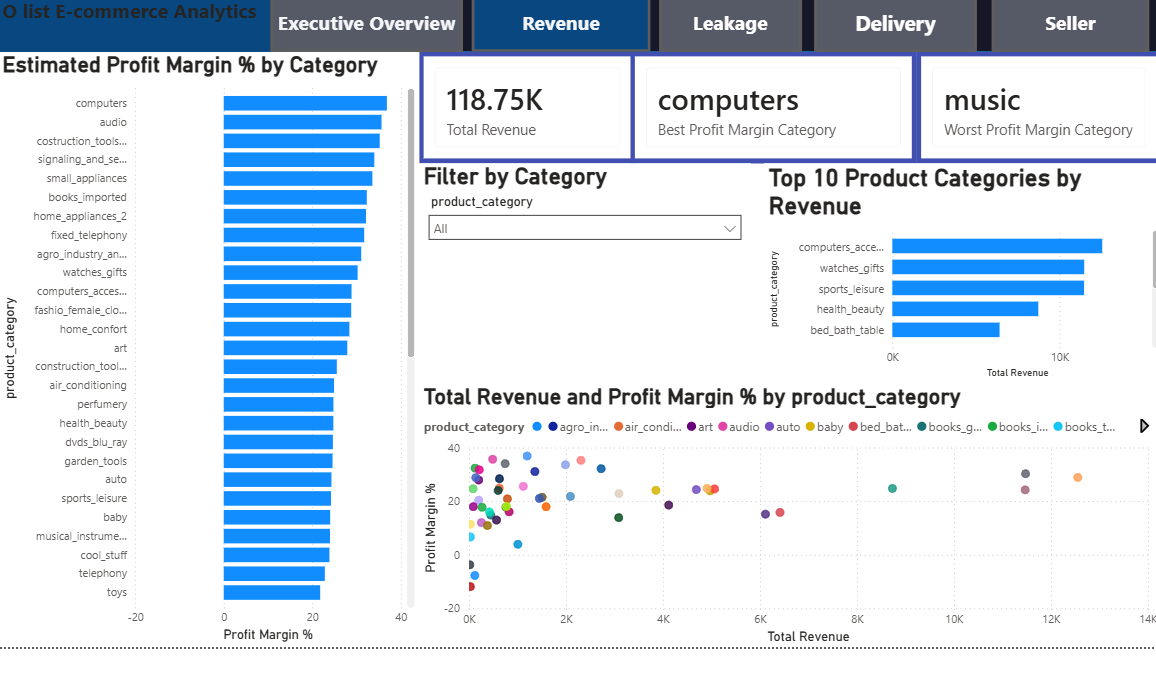

What the dashboard file says about the page in this screenshot:
{"tool":"powerbi","page":{"name":"Revenue & Profitability","canvas":[1280,720],"ordinal":1},"visuals":[{"type":"cardVisual","fields":{"Data":["delivered_orders.Total Revenue"]},"box":[462.4,65.9,238.8,122.1],"z":1000},{"type":"cardVisual","fields":{"Data":["delivered_orders.Best Profit Margin Category"]},"box":[694.3,65.9,314.2,122.1],"z":2000},{"type":"cardVisual","fields":{"Data":["delivered_orders.Worst Profit Margin Category"]},"box":[1008.6,65.9,269,122.1],"z":3000},{"type":"clusteredBarChart","title":"Top 10 Product Categories by Revenue","fields":{"Category":["delivered_orders.product_category"],"Y":["delivered_orders.Total Revenue"]},"box":[841.2,188,439.1,241.5],"z":4000},{"type":"clusteredBarChart","title":"Estimated Profit Margin % by Category","fields":{"Category":["delivered_orders.product_category"],"Y":["delivered_orders.Profit Margin %"]},"box":[0,65.9,462.4,653.2],"z":5000},{"type":"scatterChart","fields":{"X":["delivered_orders.Total Revenue"],"Y":["delivered_orders.Profit Margin %"],"Series":["delivered_orders.product_category"]},"box":[462.4,429.5,815.1,290.9],"z":6000},{"type":"slicer","title":"Filter by Category","fields":{"Values":["delivered_orders.product_category"]},"box":[462.4,188,363.6,127.6],"z":7000},{"type":"shape","box":[0,0,1277.5,65.9],"z":7001},{"type":"textbox","box":[0,0,299.1,65.9],"z":7003},{"type":"actionButton","box":[299.1,0,211.3,65.9],"z":7004},{"type":"actionButton","box":[520.1,0,196.2,65.9],"z":7005},{"type":"actionButton","box":[725.9,0,156.4,65.9],"z":7006},{"type":"actionButton","box":[896.1,0,178.4,65.9],"z":7007},{"type":"actionButton","box":[1090.9,0,172.9,65.9],"z":7008}]}

Visuals, with their boxes on the page's 1280x720 design canvas (x1, y1, x2, y2). These are canvas units, not pixel positions in the 1156x700 screenshot, which may show the page scaled, cropped or inside an application window:
cardVisual - delivered_orders.Total Revenue: box=[462, 66, 701, 188]
cardVisual - delivered_orders.Best Profit Margin Category: box=[694, 66, 1008, 188]
cardVisual - delivered_orders.Worst Profit Margin Category: box=[1009, 66, 1278, 188]
"Top 10 Product Categories by Revenue" clusteredBarChart: box=[841, 188, 1280, 430]
"Estimated Profit Margin % by Category" clusteredBarChart: box=[0, 66, 462, 719]
scatterChart - delivered_orders.Total Revenue x delivered_orders.Profit Margin %: box=[462, 430, 1278, 720]
"Filter by Category" slicer: box=[462, 188, 826, 316]
shape: box=[0, 0, 1278, 66]
textbox: box=[0, 0, 299, 66]
actionButton: box=[299, 0, 510, 66]
actionButton: box=[520, 0, 716, 66]
actionButton: box=[726, 0, 882, 66]
actionButton: box=[896, 0, 1074, 66]
actionButton: box=[1091, 0, 1264, 66]
